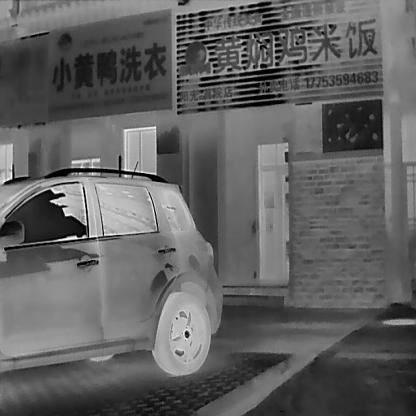car: (0, 166, 224, 376)
